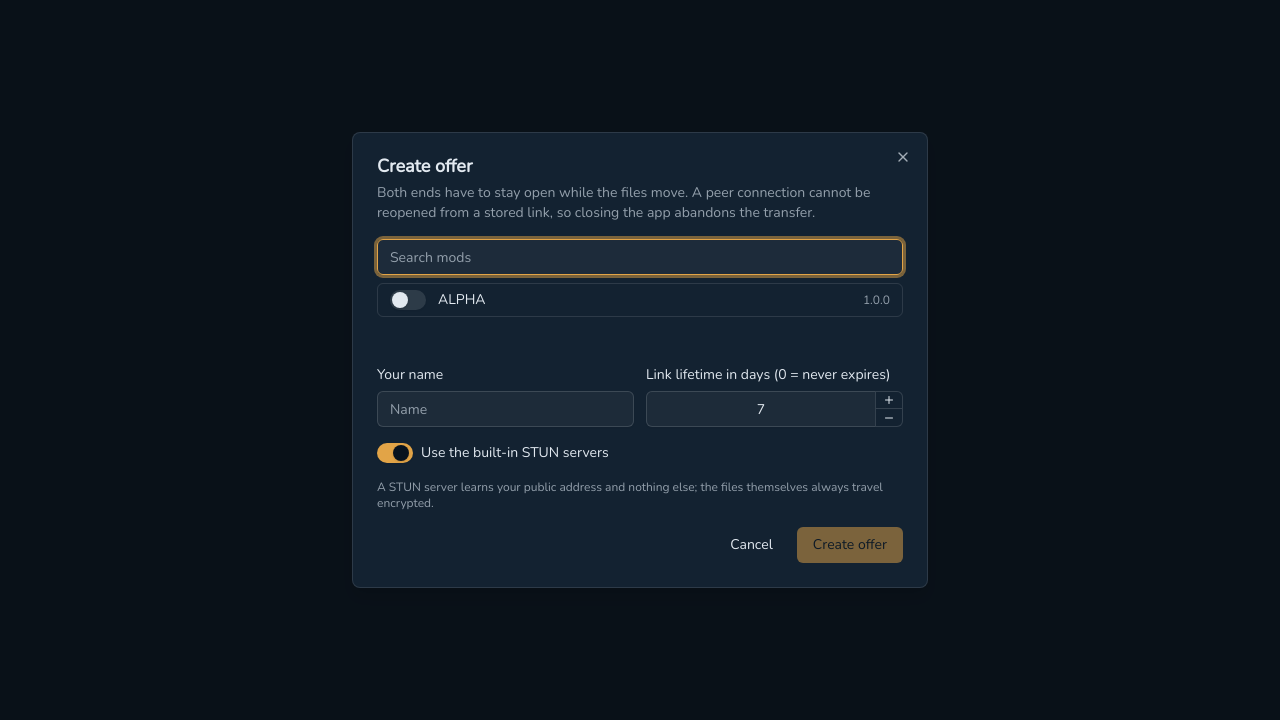
Test: CreateShareDialog › filters the list from the search field
The width and height of the screenshot is (1280, 720).
In the field labelled "Search mods": (640, 257) [377,239,903,275], type "zzz"
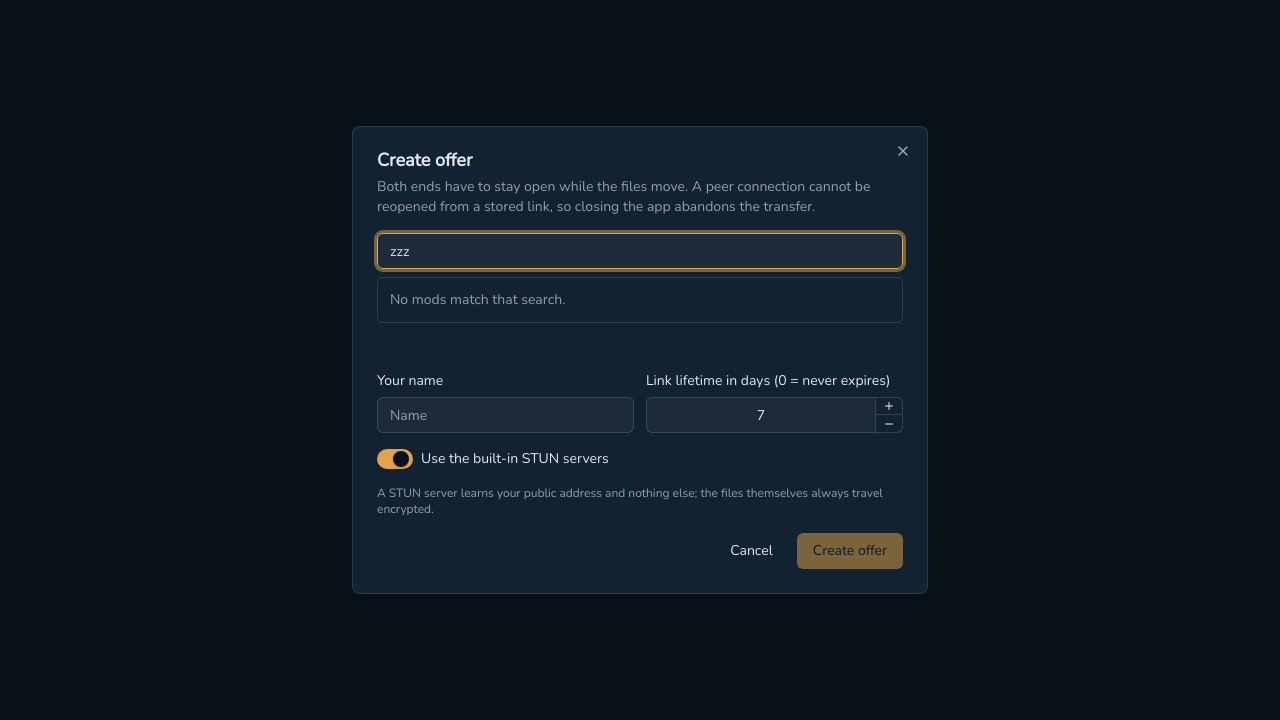
Expected: the text "ALPHA" is gone
Expected: the text "No mods match that search." is shown, [390,290,565,309]
